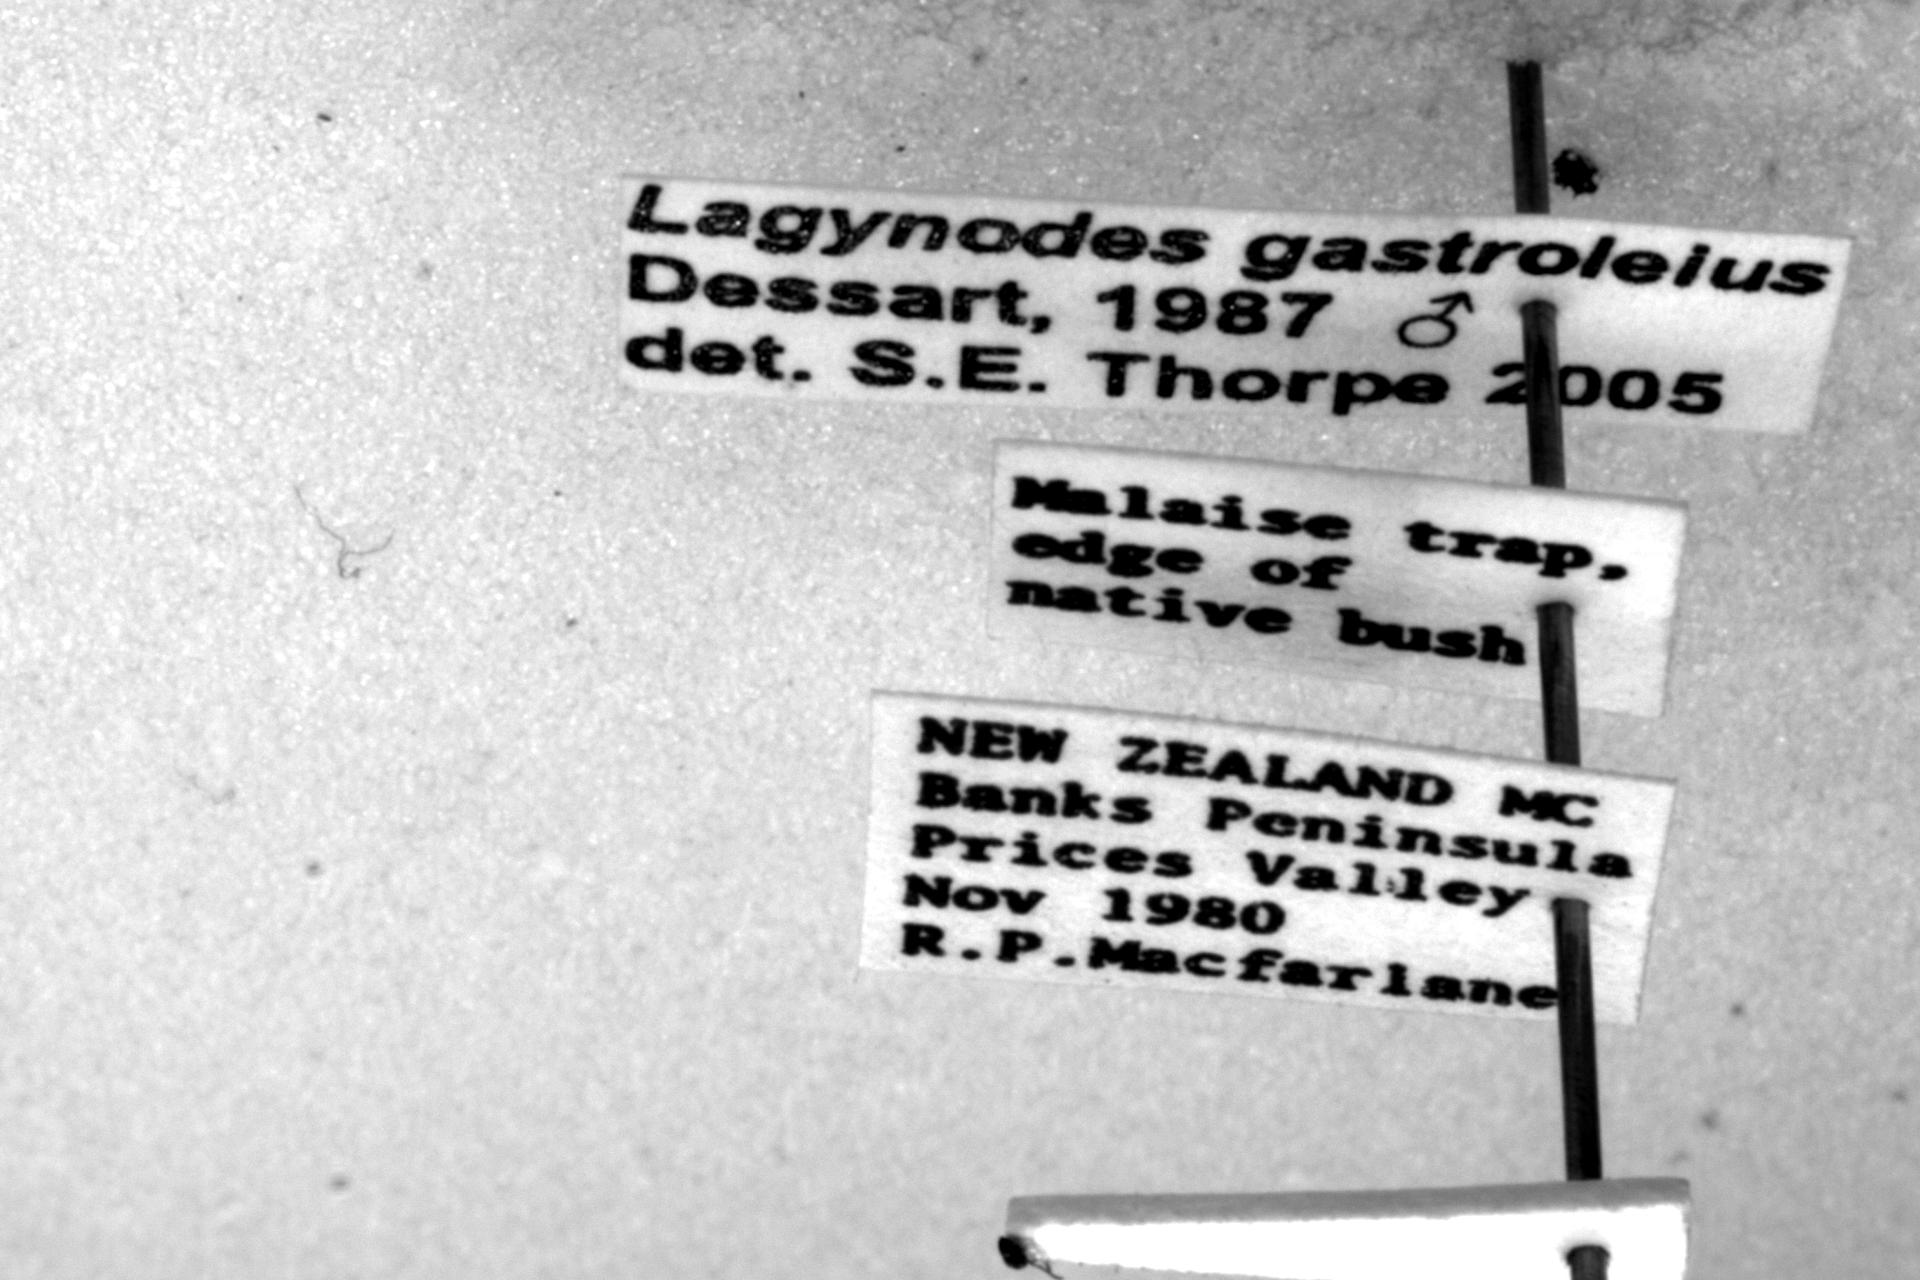typed_label: (619, 176, 1849, 431), (863, 694, 1673, 1024), (990, 443, 1687, 716)
